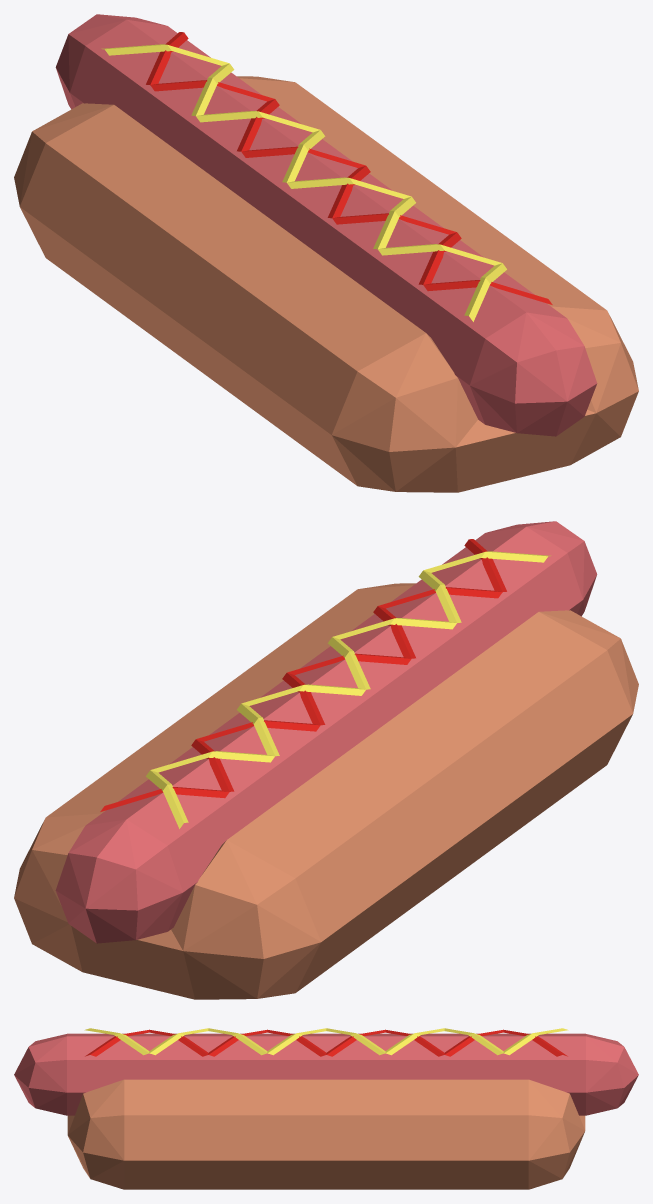
File: Item_HotDog.obj
3 renders of one model, top to bottom at view 1: azimuth 30°, elevation 25°; view 2: azimuth 150°, elevation 25°; view 3: azimuth 270°, elevation 25°, orthographic. The views are drawn at different scales.
Parts seen in each view (by area): view 1: 平面.001; view 2: 平面.001; view 3: 平面.001.
Part boxes in pixels (left/top/right/bottom): 平面.001: left=14, top=14, right=638, bottom=492; 平面.001: left=14, top=521, right=638, bottom=999; 平面.001: left=14, top=1028, right=638, bottom=1189.
Size of the model in its own units: 0.7226 by 0.463 by 2.
1 material, 1 textured.
